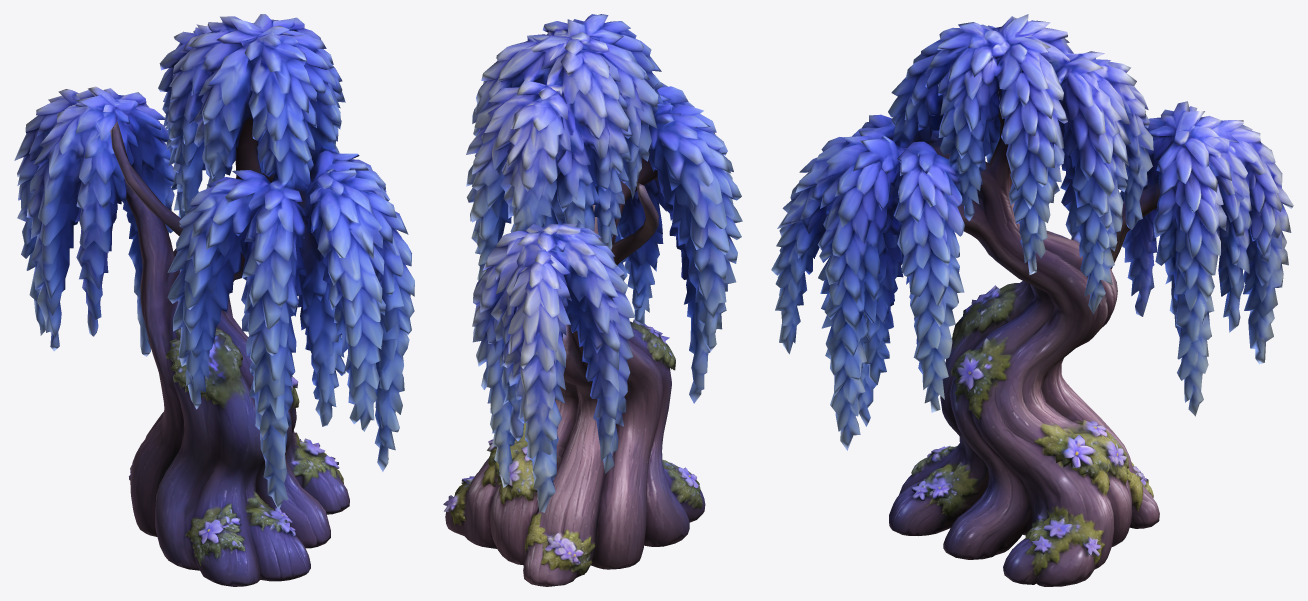
File: H_Willow_HD_src.glb
3 renders of one model, left to right at view 1: azimuth 30°, elevation 25°; view 2: azimuth 150°, elevation 25°; view 3: azimuth 270°, elevation 25°, orthographic. The views are drawn at different scales.
Parts seen in each view (by area): view 1: tripo_node_94fe27e3-c00d-4f16-bcea-56adb0334907; view 2: tripo_node_94fe27e3-c00d-4f16-bcea-56adb0334907; view 3: tripo_node_94fe27e3-c00d-4f16-bcea-56adb0334907.
Part boxes in pixels (bbox=[...]): tripo_node_94fe27e3-c00d-4f16-bcea-56adb0334907: bbox=[14, 14, 414, 586]; tripo_node_94fe27e3-c00d-4f16-bcea-56adb0334907: bbox=[443, 14, 742, 586]; tripo_node_94fe27e3-c00d-4f16-bcea-56adb0334907: bbox=[771, 14, 1293, 586].
Bounding box in the file's own units: 0.4881 × 0.9786 × 0.9019.
Materials: 1 (1 with a texture image).
